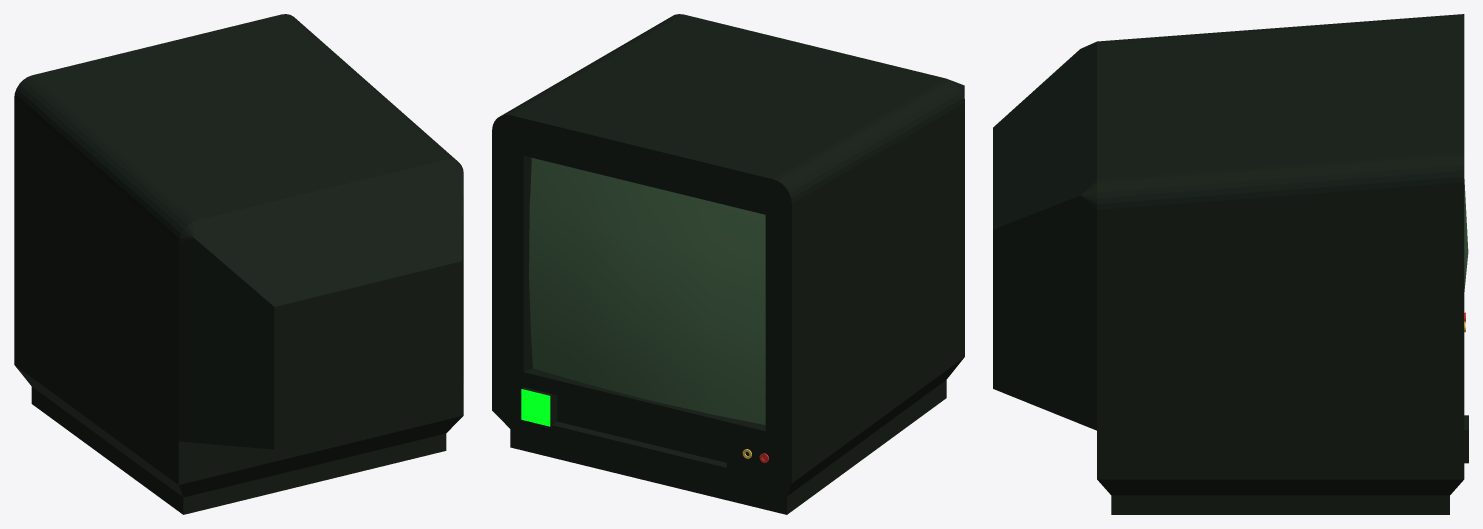
Rendered from greenlight_tv.fbx.
3 renders of one model, left to right at view 1: azimuth 30°, elevation 25°; view 2: azimuth 150°, elevation 25°; view 3: azimuth 270°, elevation 25°, orthographic. The views are drawn at different scales.
Parts seen in each view (by area): view 1: TV_main; view 2: TV_main, screen; view 3: TV_main.
Boxes of the visible parts, x1,y1,x2,y2 form: TV_main: (14, 14, 463, 514); TV_main: (492, 14, 964, 514); screen: (529, 158, 765, 424); TV_main: (993, 14, 1468, 514).
Bounding box in the file's own units: 172 × 186 × 223.
